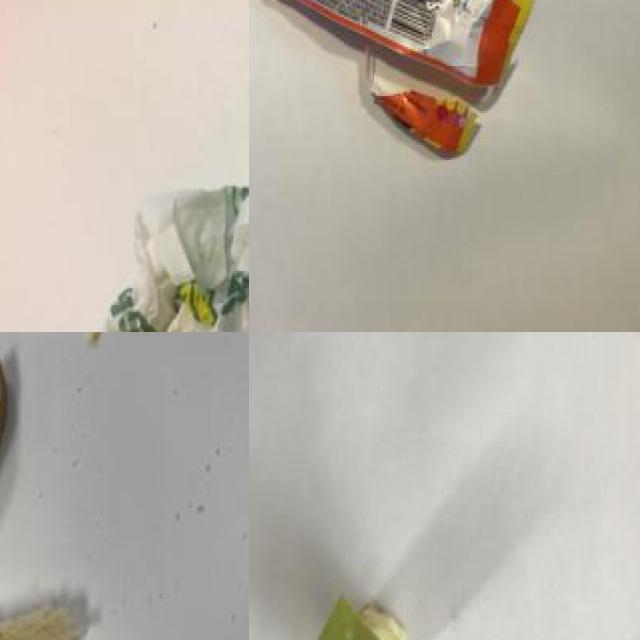compost: (0, 354, 96, 640), (297, 591, 419, 640)
trash: (249, 0, 547, 198), (81, 152, 249, 332)
